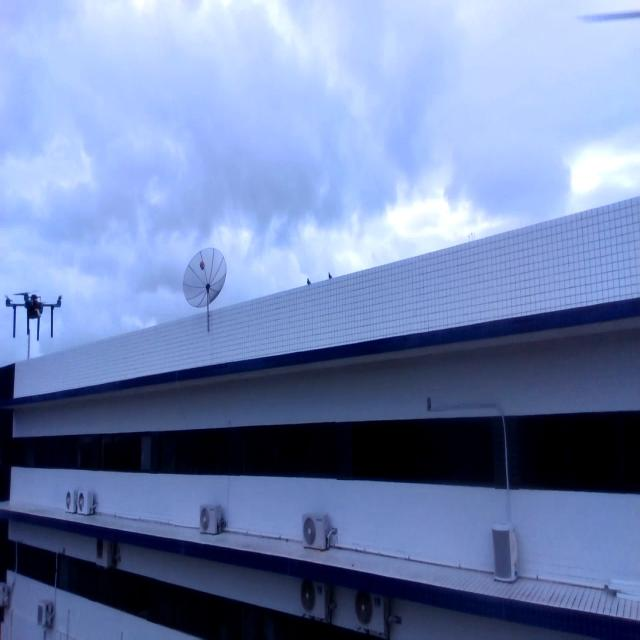-uav-: (2, 276, 68, 351)
